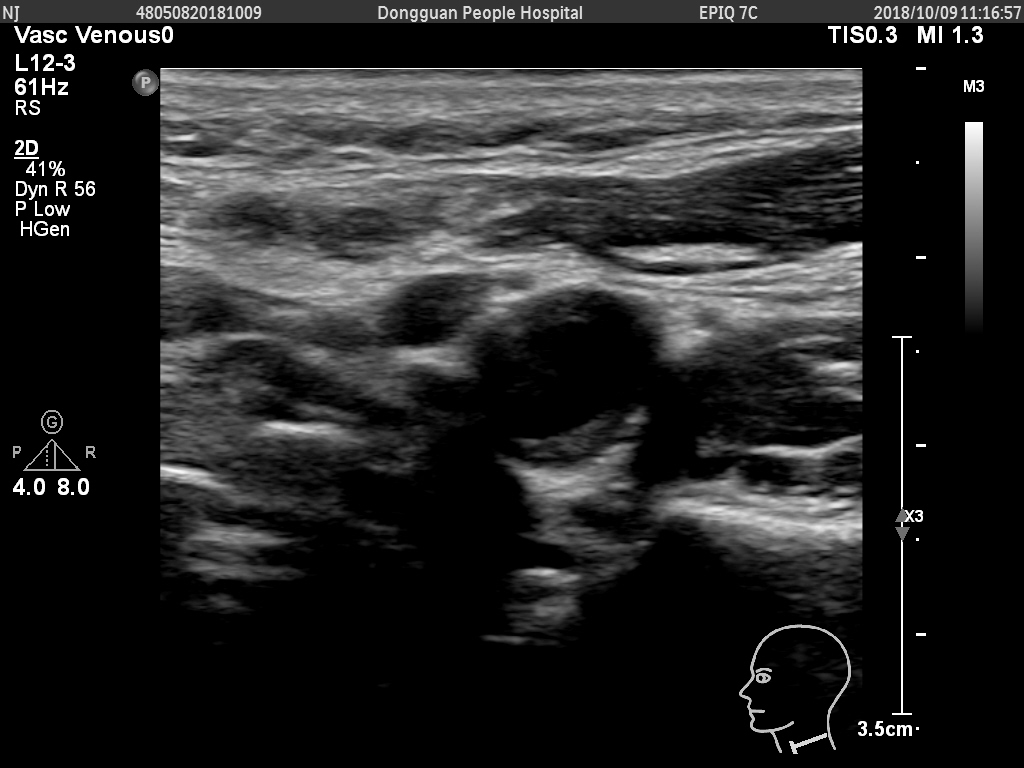blood vessel: (431, 253, 694, 518)
plaque: (502, 405, 642, 487)
pseudomorphism: (459, 280, 632, 362)
